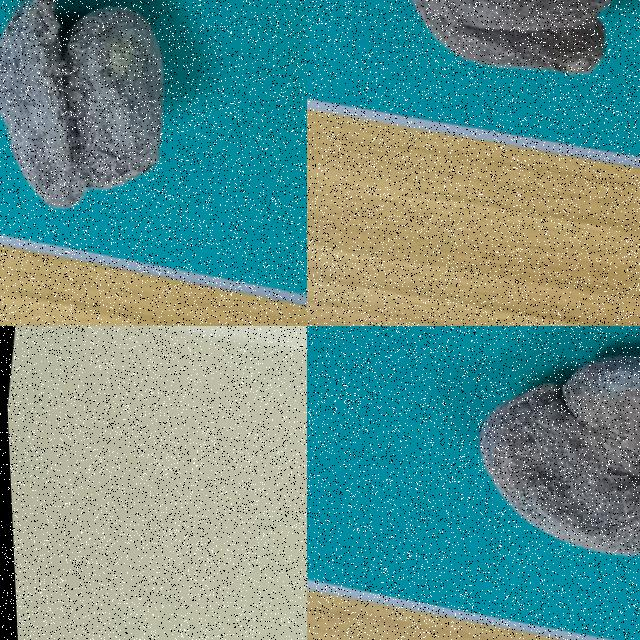Agglomerated_cocoabeans: (382, 326, 639, 633), (0, 0, 272, 254), (331, 0, 639, 116)
